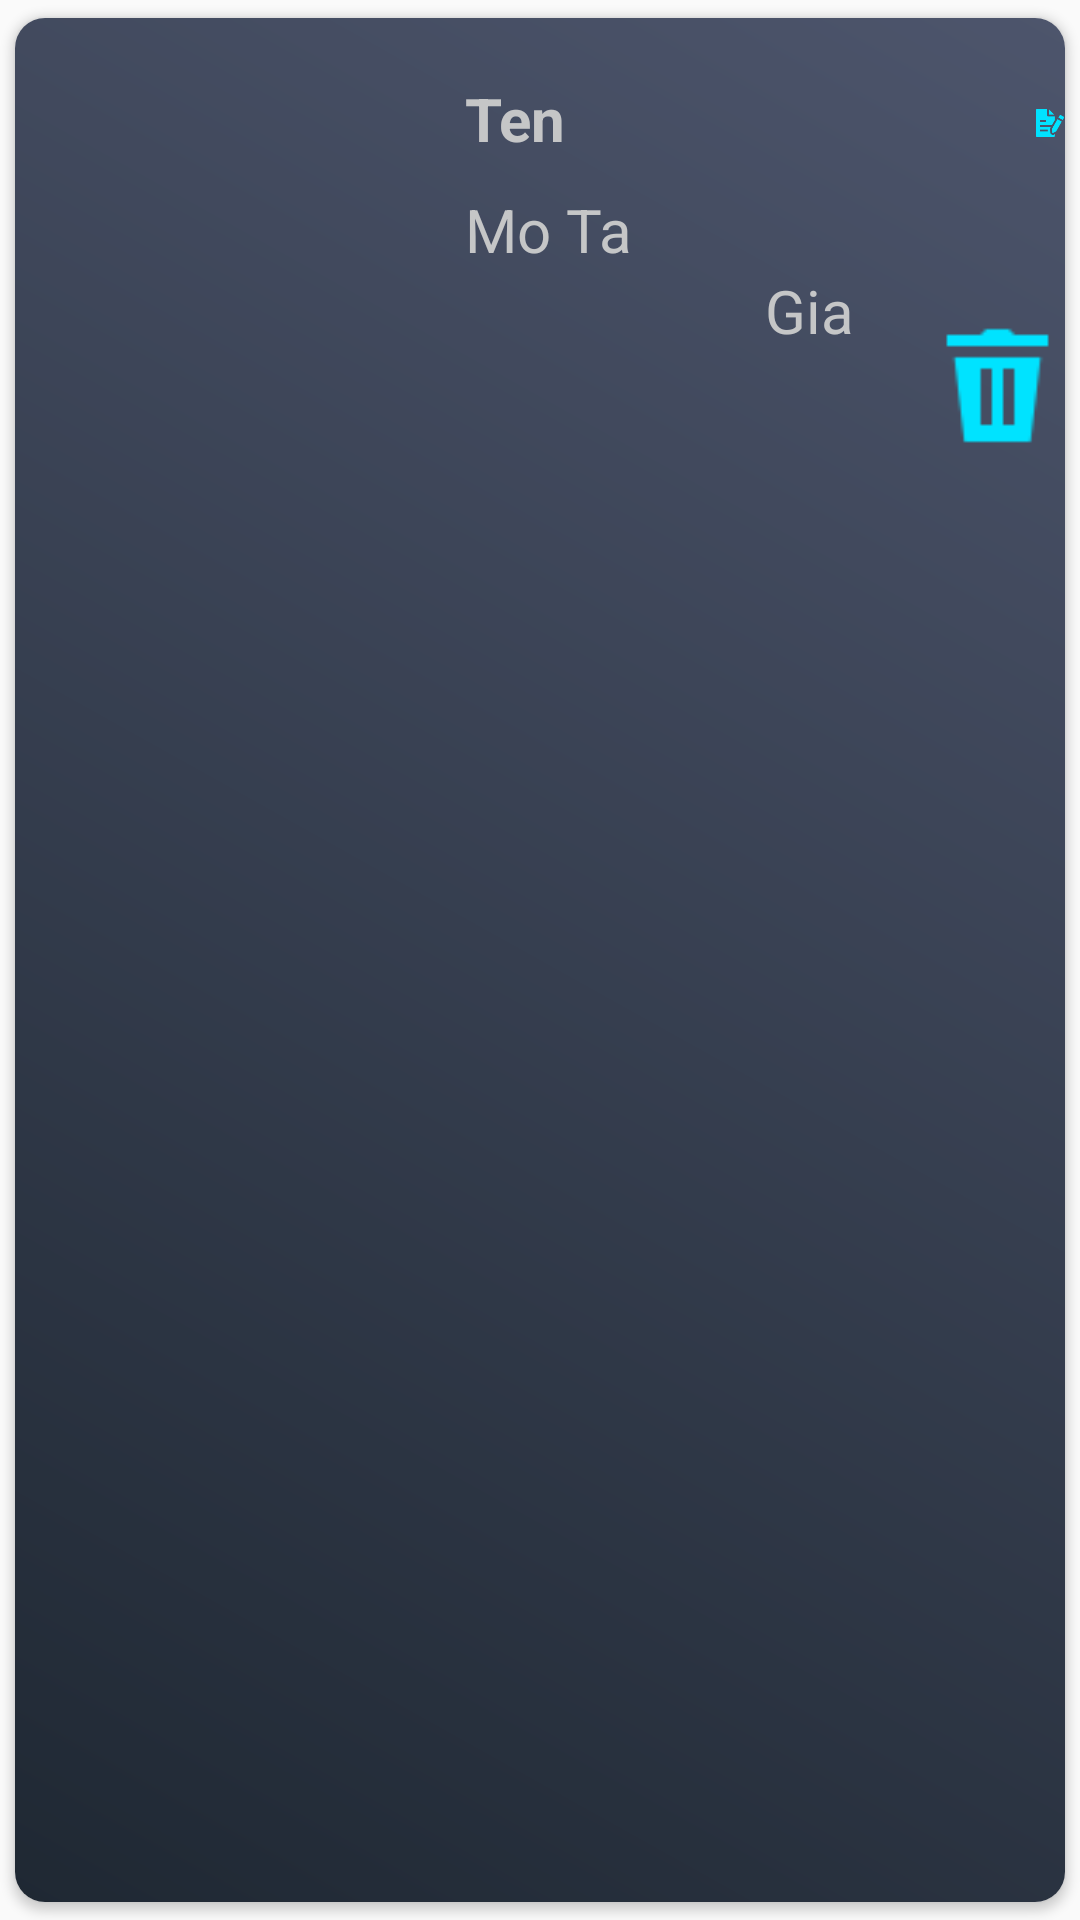

Screen size 1080px x 1920px. Icon name, then its box in pixels as [x1, y1, x2, y2]:
bin: [946, 328, 1049, 443]
edit: [1036, 109, 1064, 137]
